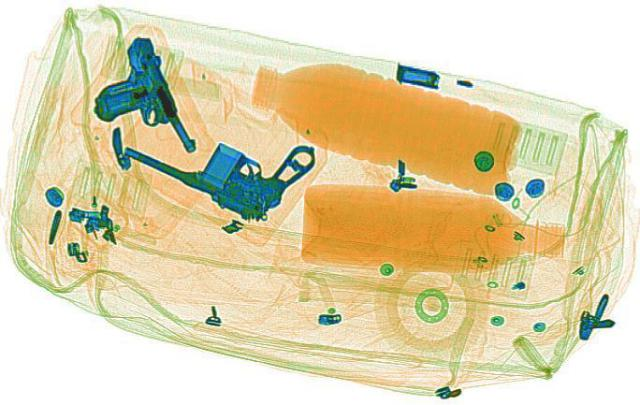Gun: (109, 92, 347, 225), (65, 32, 201, 158)
